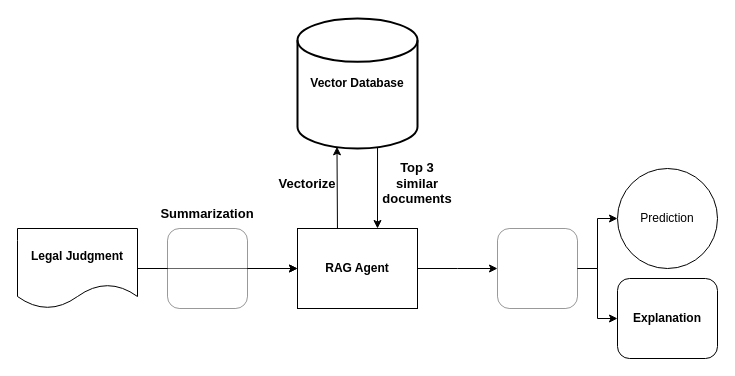
The diagram is 735 pixels wide and 376 high, and some of its shapes have lost their labels. The shapes that lost their labels are listed below. From the top down, each one's centre as x and y in pixels, then its label:
point 207,268: Mixtral-8x7B Instruct-v0.1
point 537,268: Llama3.1 8B Instruct
